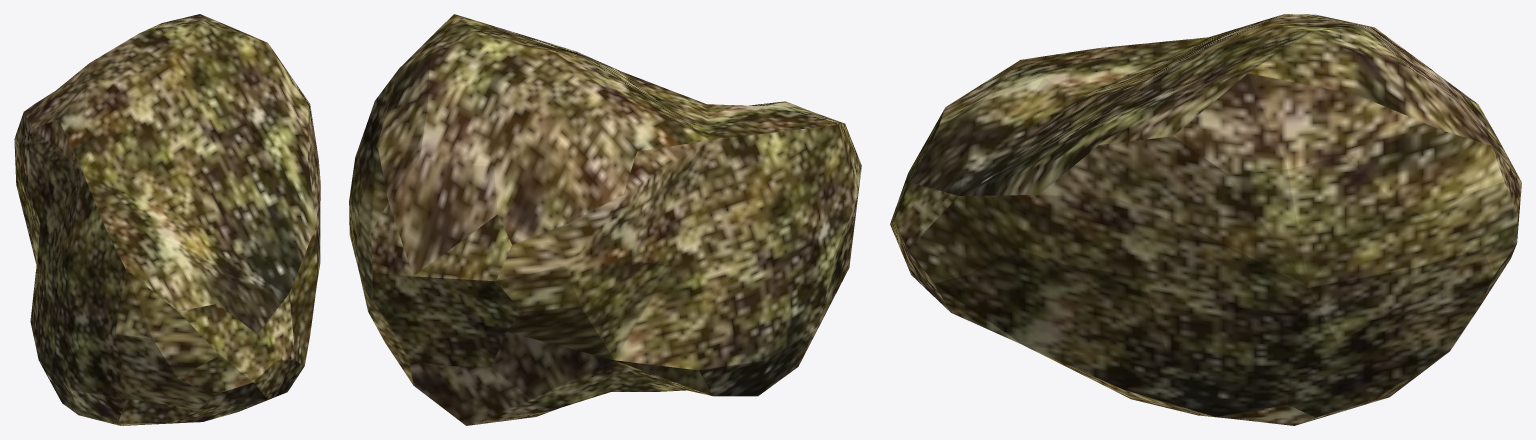
The model's file is ITMI_GOLDNUGGET_01.glb.
3 views of the same model, side by side, from view 1: azimuth 30°, elevation 25°; view 2: azimuth 150°, elevation 25°; view 3: azimuth 270°, elevation 25° (orthographic). The views are drawn at different scales.
Visible parts, largest first — view 1: ITMI_GOLDNUGGET_01; view 2: ITMI_GOLDNUGGET_01; view 3: ITMI_GOLDNUGGET_01.
Boxes of the visible parts, x1,y1,x2,y2 form: ITMI_GOLDNUGGET_01: (14,14,320,425); ITMI_GOLDNUGGET_01: (349,14,861,425); ITMI_GOLDNUGGET_01: (890,14,1521,425).
Bounding box in the file's own units: 0.0946 × 0.094 × 0.134.
Materials: 1 (1 with a texture image).
